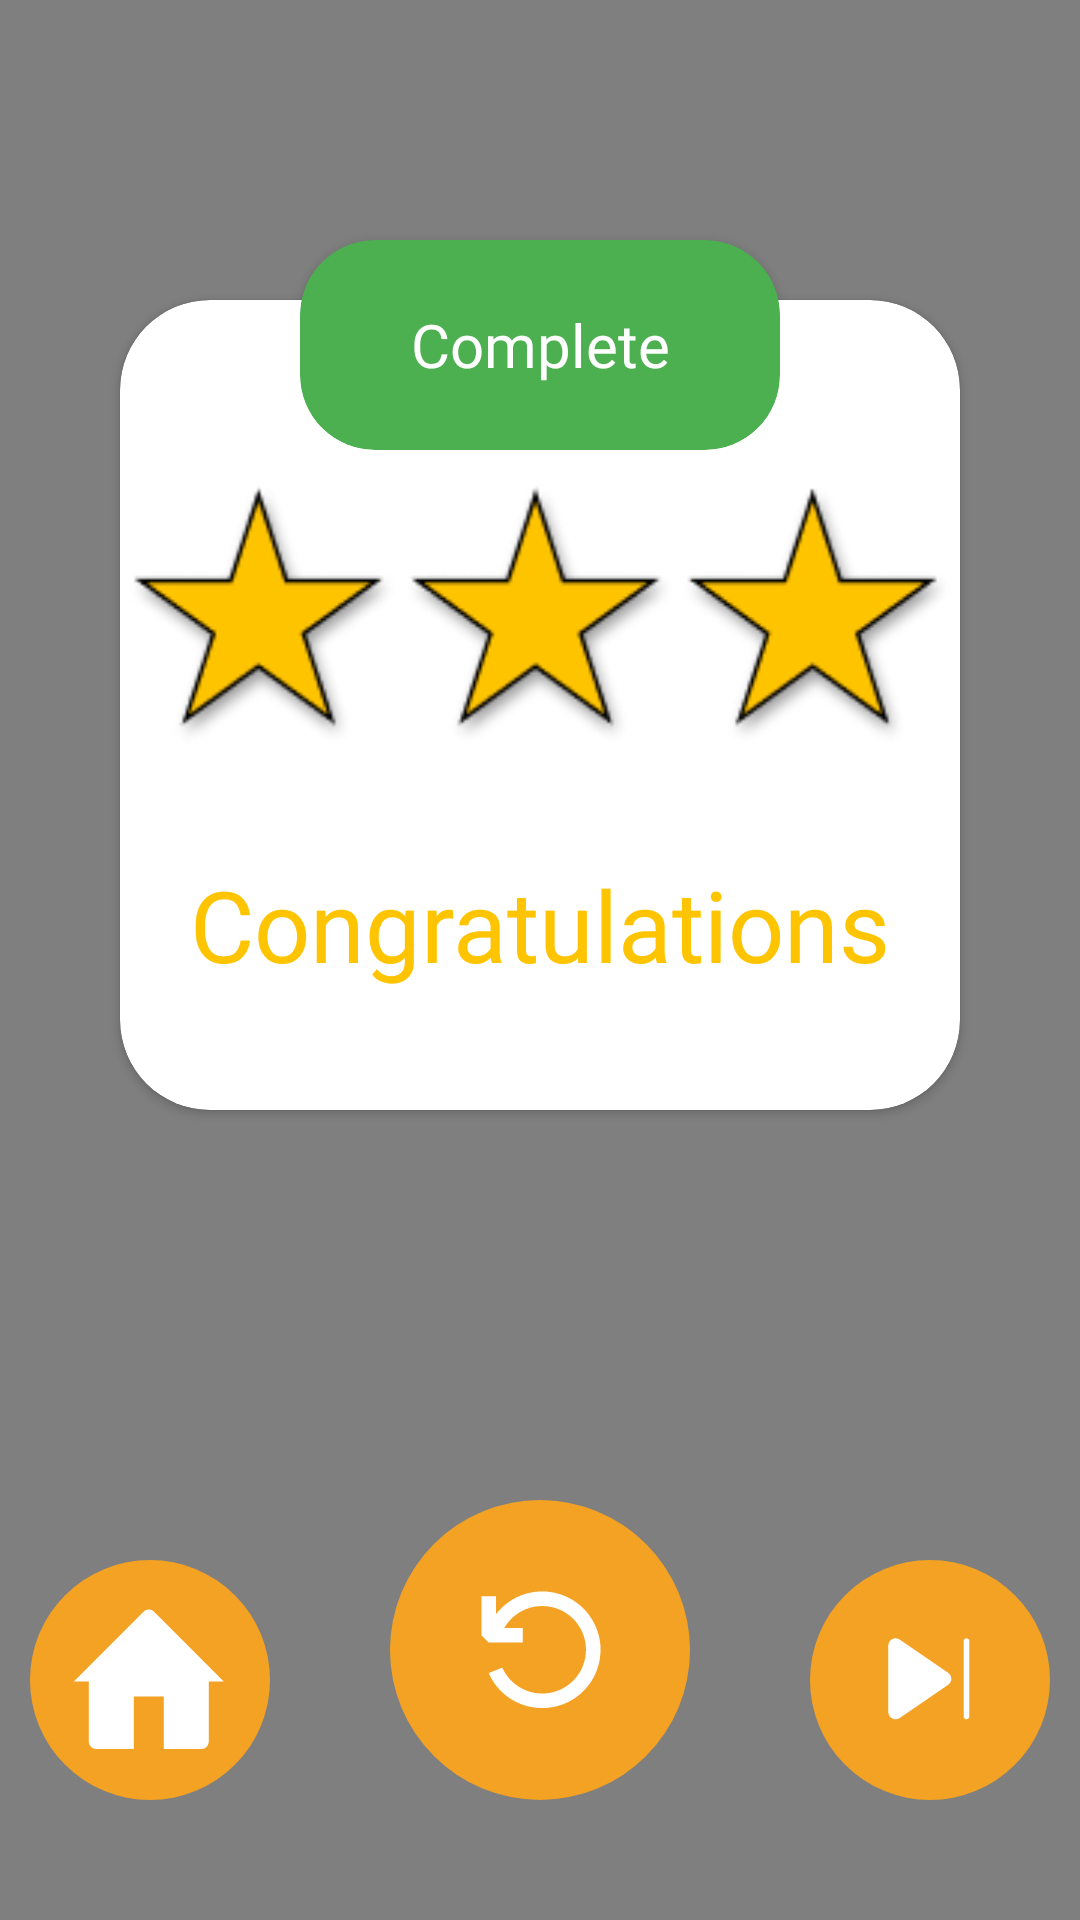

Icon click points for this 1080×1920 phone screenshot, format point (x, y):
home back: point (150, 1680)
next level: point (930, 1680)
restart: point (540, 1650)
